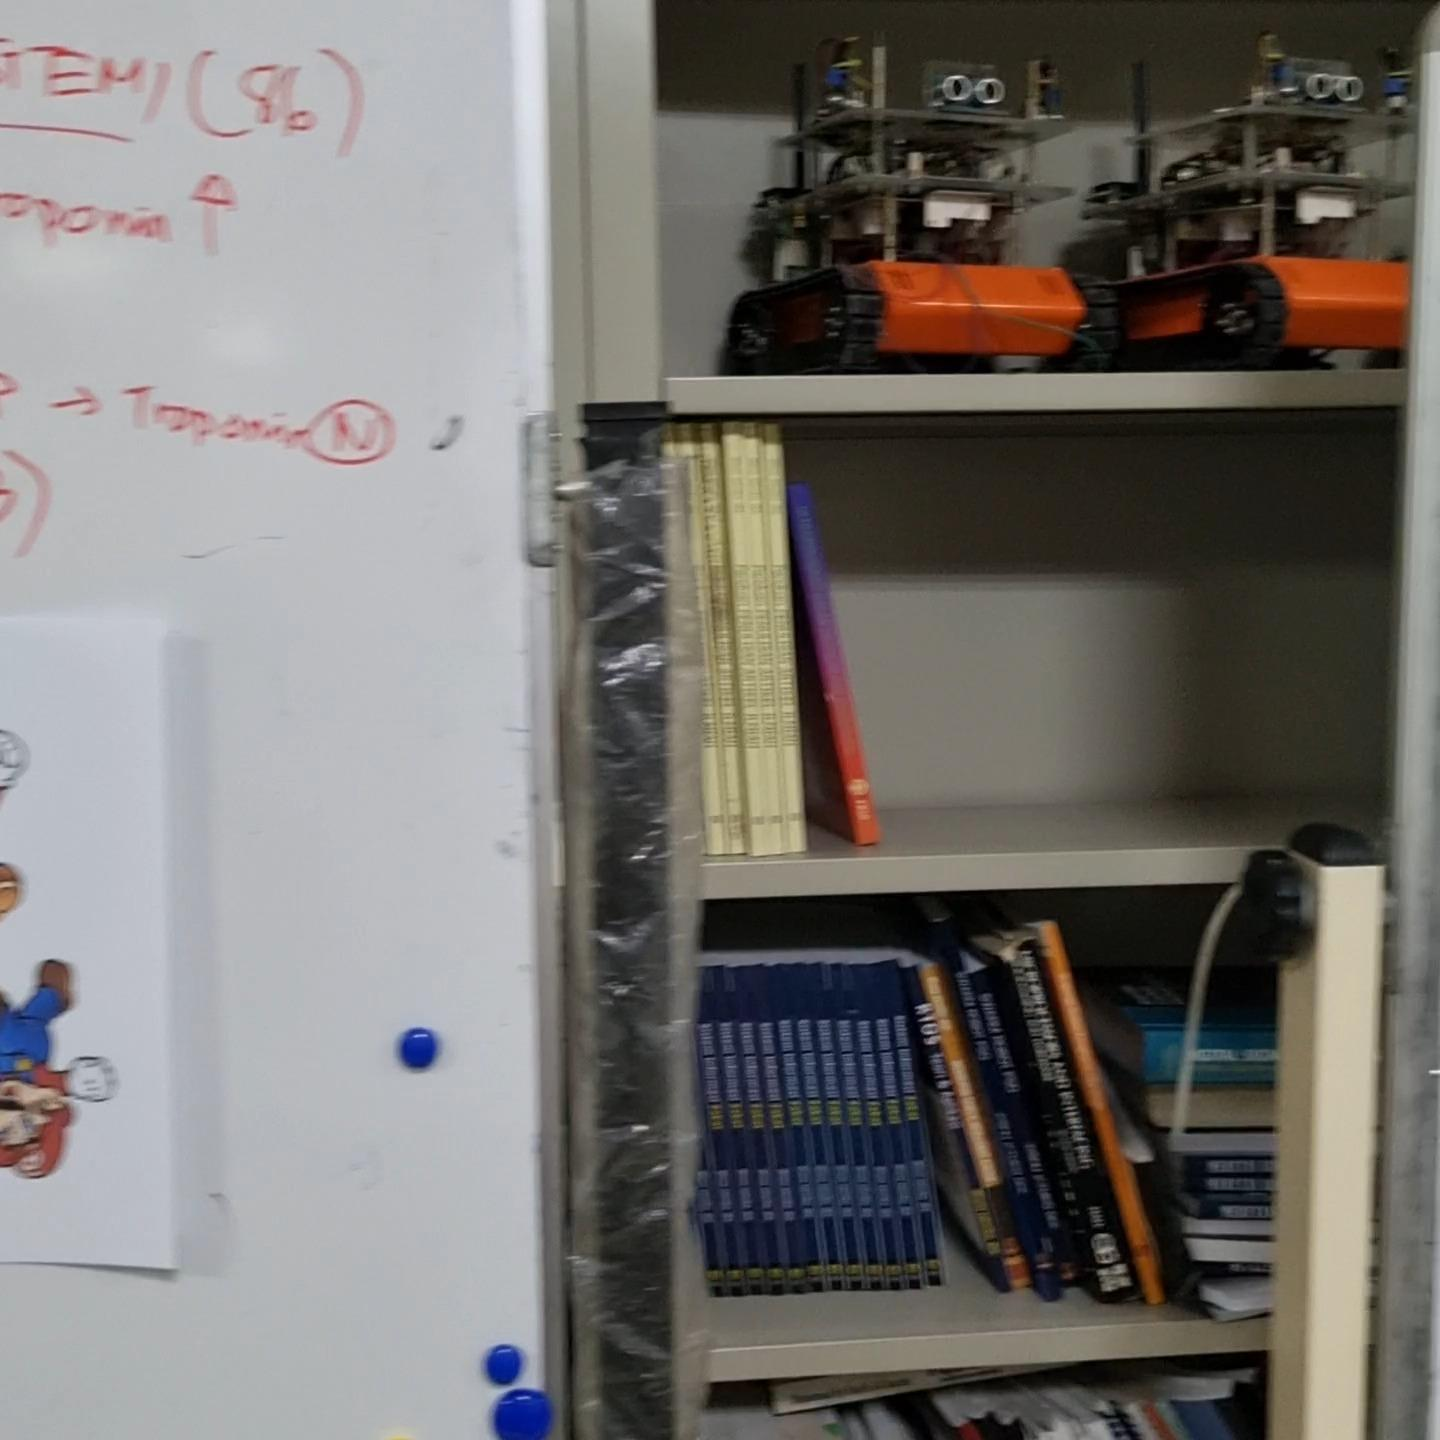mario: (0, 952, 132, 1192)
